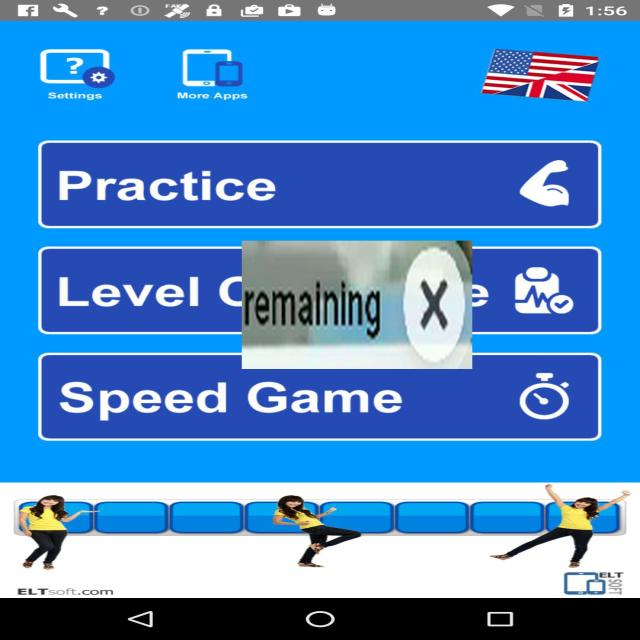misdirection: (242, 241, 472, 369)
